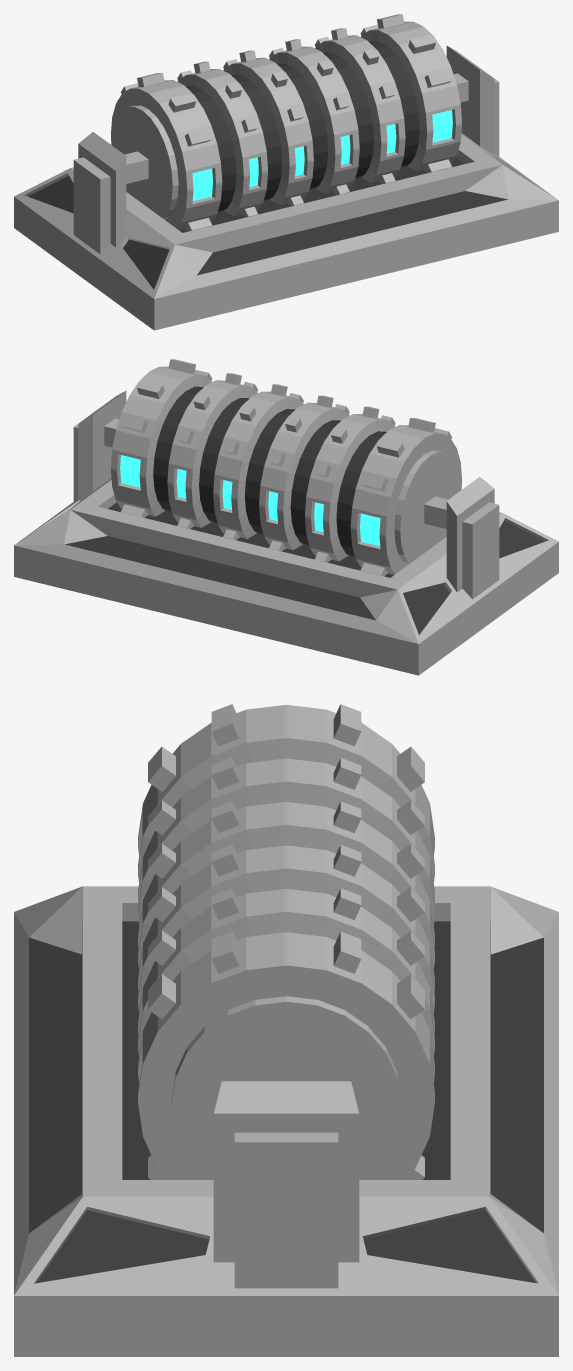
The model's file is Engine.fbx.
The picture shows the model from 3 angles, top to bottom: view 1: azimuth 30°, elevation 25°; view 2: azimuth 150°, elevation 25°; view 3: azimuth 270°, elevation 25°; orthographic projection. The views are drawn at different scales.
Visible parts, largest first — view 1: Engine, Engine Part; view 2: Engine, Engine Part; view 3: Engine, Engine Part.
Boxes of the visible parts, bbox=[...] form: Engine: bbox=[14, 46, 558, 330]; Engine Part: bbox=[111, 14, 461, 231]; Engine: bbox=[14, 391, 558, 675]; Engine Part: bbox=[111, 359, 461, 576]; Engine: bbox=[14, 886, 558, 1356]; Engine Part: bbox=[138, 704, 434, 1179].
Bounding box in the file's own units: 10 × 4.1 × 6.
